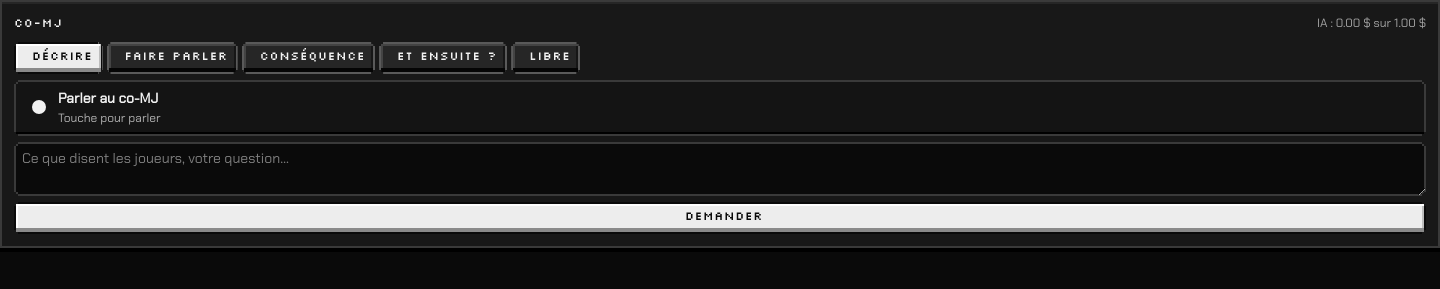
Test: the co-GM by voice › says why when the microphone is refused, and offers no button without one
Click the button "Parler au co-MJ Touche pour parler" at (108, 98), box [14,80,1426,136]
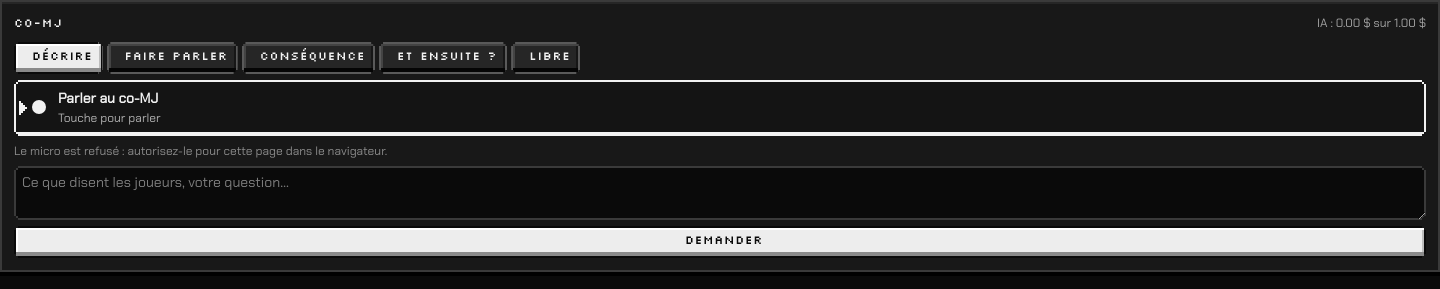
Now the message shows "Le micro est refusé", box [14,143,387,159]
